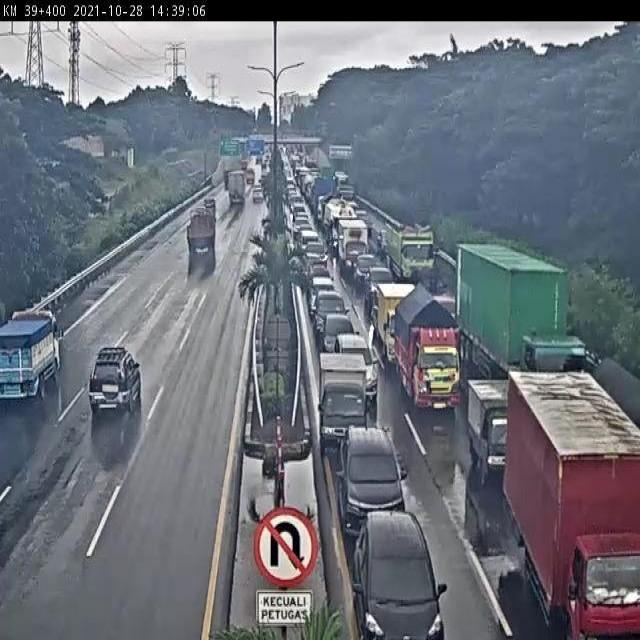big truck: (464, 255, 593, 373), (389, 224, 443, 285)
car: (351, 502, 445, 640), (332, 424, 407, 537), (82, 344, 148, 417), (328, 333, 382, 407), (311, 287, 348, 340), (320, 312, 361, 352), (366, 263, 396, 312), (310, 273, 338, 308)
small truck: (509, 368, 640, 613), (393, 284, 469, 412), (463, 376, 526, 481), (1, 308, 62, 409), (315, 352, 371, 453), (375, 283, 421, 364)
